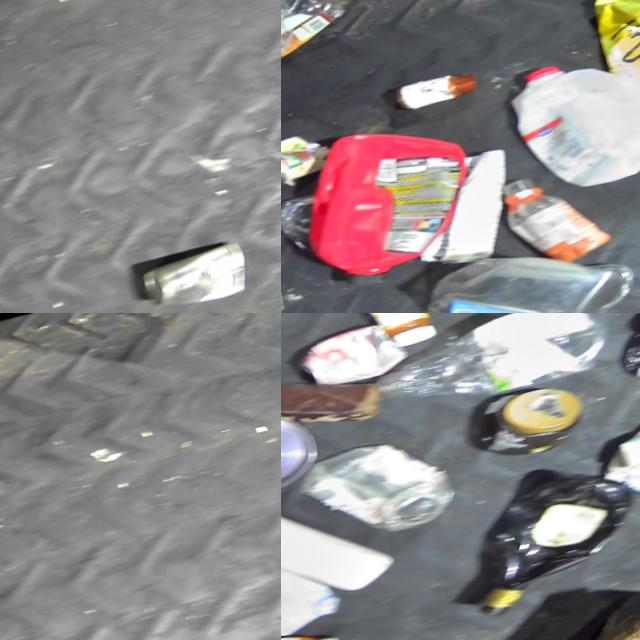can: (130, 237, 250, 313), (608, 313, 640, 387)
milk_jug: (499, 43, 640, 196), (281, 528, 340, 640)
non_white_jug: (281, 108, 488, 287)
plastic_bottle: (501, 157, 619, 270), (281, 0, 379, 81)
